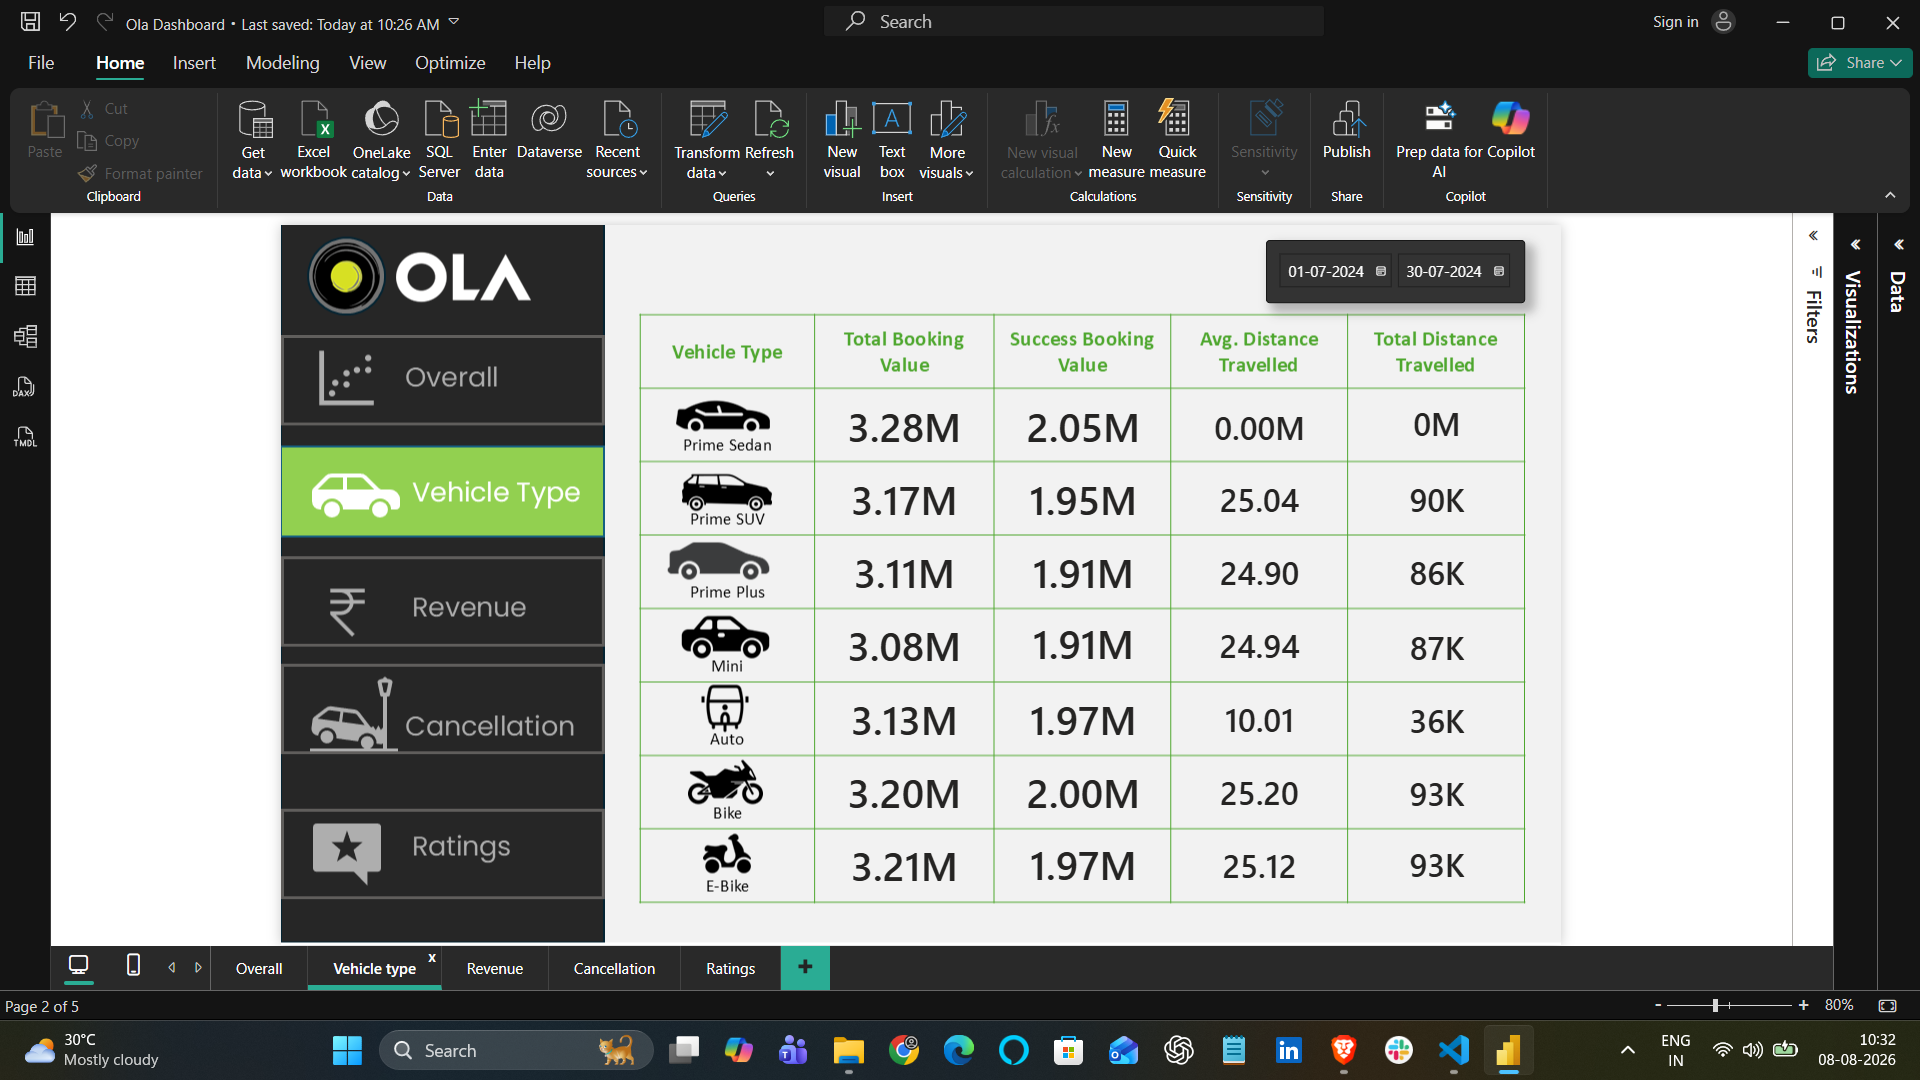

The dashboard page shown, as its layout file describes it:
{"tool":"powerbi","page":{"name":"Vehicle type","canvas":[1280,720],"ordinal":1},"visuals":[{"type":"cardVisual","fields":{"Data":["Sum(July.Booking_Value)"]},"box":[533.8,163.3,179.8,71.4],"z":0},{"type":"cardVisual","fields":{"Data":["Sum(July.Booking_Value)"]},"box":[533.8,234.6,179.8,75.5],"z":1000},{"type":"cardVisual","fields":{"Data":["Sum(July.Booking_Value)"]},"box":[533.8,310.1,179.8,71.4],"z":2000},{"type":"cardVisual","fields":{"Data":["Sum(July.Booking_Value)"]},"box":[533.8,381.5,179.8,75.5],"z":3000},{"type":"cardVisual","fields":{"Data":["Sum(July.Booking_Value)"]},"box":[533.8,456.9,179.8,71.4],"z":4000},{"type":"cardVisual","fields":{"Data":["Sum(July.Booking_Value)"]},"box":[533.8,528.3,179.8,74.1],"z":5000},{"type":"cardVisual","fields":{"Data":["Sum(July.Booking_Value)"]},"box":[533.8,602.4,179.8,72.7],"z":6000},{"type":"cardVisual","fields":{"Data":["Sum(July.Booking_Value)"]},"box":[713.6,163.3,177,71.4],"z":7000},{"type":"cardVisual","fields":{"Data":["Sum(July.Booking_Value)"]},"box":[713.6,237.4,177,71.4],"z":8000},{"type":"cardVisual","fields":{"Data":["Sum(July.Booking_Value)"]},"box":[713.6,310.1,177,71.4],"z":9000},{"type":"cardVisual","fields":{"Data":["Sum(July.Booking_Value)"]},"box":[713.6,381.5,177,71.4],"z":10000},{"type":"cardVisual","fields":{"Data":["Sum(July.Booking_Value)"]},"box":[713.6,456.9,177,71.4],"z":11000},{"type":"cardVisual","fields":{"Data":["Sum(July.Booking_Value)"]},"box":[713.6,528.3,177,74.1],"z":12000},{"type":"cardVisual","fields":{"Data":["Sum(July.Booking_Value)"]},"box":[713.6,602.4,177,71.4],"z":13000},{"type":"cardVisual","fields":{"Data":["Avg(July.Ride_Distance)"]},"box":[890.6,163.3,177,74.1],"z":14000},{"type":"cardVisual","fields":{"Data":["Avg(July.Ride_Distance)"]},"box":[890.6,234.6,177,75.5],"z":15000},{"type":"cardVisual","fields":{"Data":["Avg(July.Ride_Distance)"]},"box":[890.6,310.1,177,71.4],"z":16000},{"type":"cardVisual","fields":{"Data":["Avg(July.Ride_Distance)"]},"box":[890.6,381.5,177,75.5],"z":17000},{"type":"cardVisual","fields":{"Data":["Avg(July.Ride_Distance)"]},"box":[890.6,456.9,177,71.4],"z":18000},{"type":"cardVisual","fields":{"Data":["Avg(July.Ride_Distance)"]},"box":[890.6,528.3,177,74.1],"z":19000},{"type":"cardVisual","fields":{"Data":["Avg(July.Ride_Distance)"]},"box":[890.6,603.8,177,71.4],"z":20000},{"type":"cardVisual","fields":{"Data":["Sum(July.Ride_Distance)"]},"box":[1067.6,160.5,177,74.1],"z":21000},{"type":"cardVisual","fields":{"Data":["Sum(July.Ride_Distance)"]},"box":[1067.6,237.4,177,71.4],"z":22000},{"type":"cardVisual","fields":{"Data":["Sum(July.Ride_Distance)"]},"box":[1067.6,310.1,177,71.4],"z":23000},{"type":"cardVisual","fields":{"Data":["Sum(July.Ride_Distance)"]},"box":[1067.6,382.8,177,75.5],"z":24000},{"type":"cardVisual","fields":{"Data":["Sum(July.Ride_Distance)"]},"box":[1067.6,458.3,177,71.4],"z":25000},{"type":"cardVisual","fields":{"Data":["Sum(July.Ride_Distance)"]},"box":[1067.6,529.7,177,74.1],"z":26000},{"type":"cardVisual","fields":{"Data":["Sum(July.Ride_Distance)"]},"box":[1067.6,602.4,177,71.4],"z":27000},{"type":"actionButton","box":[0,109.8,323.8,90.6],"z":28000},{"type":"actionButton","box":[0,330.7,323.8,90.6],"z":29000},{"type":"actionButton","box":[0,439.1,323.8,90.6],"z":30000},{"type":"actionButton","box":[0,583.2,323.8,90.6],"z":31000},{"type":"slicer","title":"Date","fields":{"Values":["July.Date"]},"box":[985.3,15.1,259.3,63.1],"z":32000}]}

Visuals, with their boxes on the page's 1280x720 design canvas (x1, y1, x2, y2). These are canvas units, not pixel positions in the 1920x1080 screenshot, which may show the page scaled, cropped or inside an application window:
cardVisual - Sum(July.Booking_Value): (left=534, top=163, right=714, bottom=235)
cardVisual - Sum(July.Booking_Value): (left=534, top=235, right=714, bottom=310)
cardVisual - Sum(July.Booking_Value): (left=534, top=310, right=714, bottom=382)
cardVisual - Sum(July.Booking_Value): (left=534, top=382, right=714, bottom=457)
cardVisual - Sum(July.Booking_Value): (left=534, top=457, right=714, bottom=528)
cardVisual - Sum(July.Booking_Value): (left=534, top=528, right=714, bottom=602)
cardVisual - Sum(July.Booking_Value): (left=534, top=602, right=714, bottom=675)
cardVisual - Sum(July.Booking_Value): (left=714, top=163, right=891, bottom=235)
cardVisual - Sum(July.Booking_Value): (left=714, top=237, right=891, bottom=309)
cardVisual - Sum(July.Booking_Value): (left=714, top=310, right=891, bottom=382)
cardVisual - Sum(July.Booking_Value): (left=714, top=382, right=891, bottom=453)
cardVisual - Sum(July.Booking_Value): (left=714, top=457, right=891, bottom=528)
cardVisual - Sum(July.Booking_Value): (left=714, top=528, right=891, bottom=602)
cardVisual - Sum(July.Booking_Value): (left=714, top=602, right=891, bottom=674)
cardVisual - Avg(July.Ride_Distance): (left=891, top=163, right=1068, bottom=237)
cardVisual - Avg(July.Ride_Distance): (left=891, top=235, right=1068, bottom=310)
cardVisual - Avg(July.Ride_Distance): (left=891, top=310, right=1068, bottom=382)
cardVisual - Avg(July.Ride_Distance): (left=891, top=382, right=1068, bottom=457)
cardVisual - Avg(July.Ride_Distance): (left=891, top=457, right=1068, bottom=528)
cardVisual - Avg(July.Ride_Distance): (left=891, top=528, right=1068, bottom=602)
cardVisual - Avg(July.Ride_Distance): (left=891, top=604, right=1068, bottom=675)
cardVisual - Sum(July.Ride_Distance): (left=1068, top=160, right=1245, bottom=235)
cardVisual - Sum(July.Ride_Distance): (left=1068, top=237, right=1245, bottom=309)
cardVisual - Sum(July.Ride_Distance): (left=1068, top=310, right=1245, bottom=382)
cardVisual - Sum(July.Ride_Distance): (left=1068, top=383, right=1245, bottom=458)
cardVisual - Sum(July.Ride_Distance): (left=1068, top=458, right=1245, bottom=530)
cardVisual - Sum(July.Ride_Distance): (left=1068, top=530, right=1245, bottom=604)
cardVisual - Sum(July.Ride_Distance): (left=1068, top=602, right=1245, bottom=674)
actionButton: (left=0, top=110, right=324, bottom=200)
actionButton: (left=0, top=331, right=324, bottom=421)
actionButton: (left=0, top=439, right=324, bottom=530)
actionButton: (left=0, top=583, right=324, bottom=674)
"Date" slicer: (left=985, top=15, right=1245, bottom=78)
